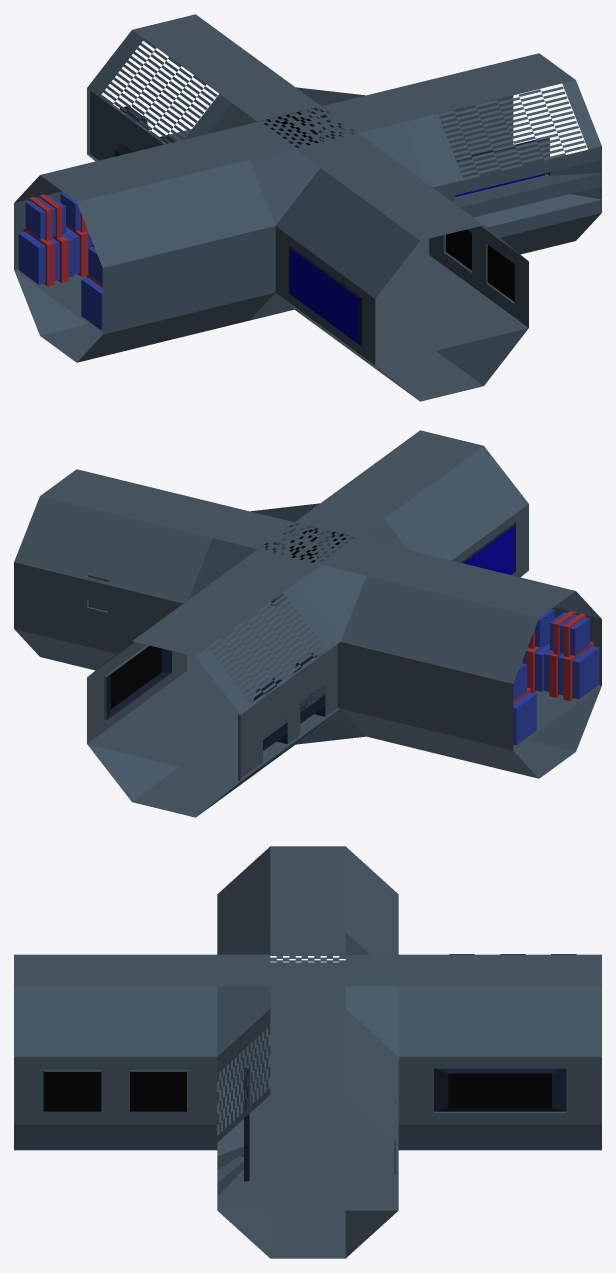
The model's file is p_rdy_c.obj.
3 renders of one model, top to bottom at view 1: azimuth 30°, elevation 25°; view 2: azimuth 150°, elevation 25°; view 3: azimuth 270°, elevation 25°, orthographic. The views are drawn at different scales.
Visible parts, largest first — view 1: +_Cylinder.002; view 2: +_Cylinder.002; view 3: +_Cylinder.002.
Part boxes in pixels (x1,y1,x2,y2): +_Cylinder.002: (14,14,601,401); +_Cylinder.002: (14,430,601,817); +_Cylinder.002: (14,846,601,1258).
Size of the model in its own units: 6 by 1.86 by 6.
